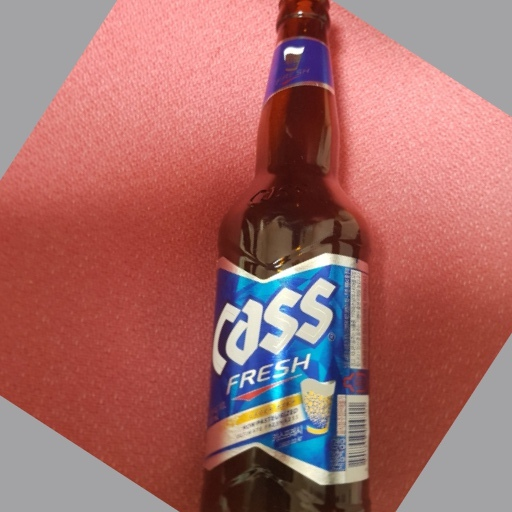Glass_1: (205, 1, 374, 512)
